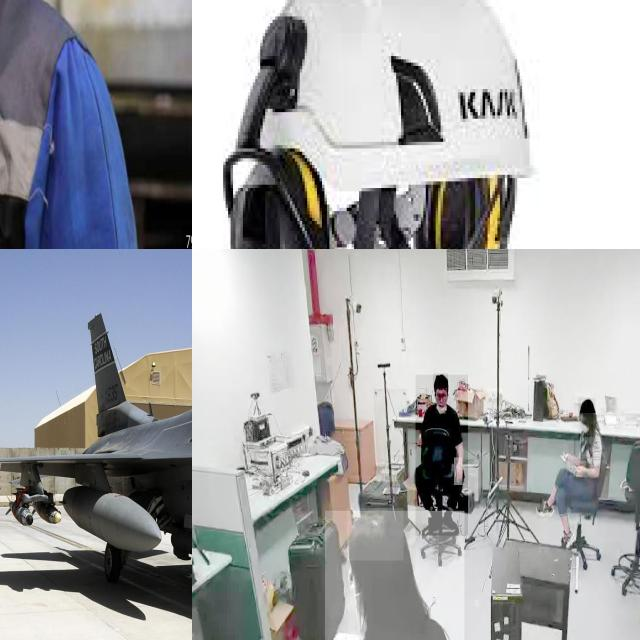Ear-protection: (223, 142, 329, 249), (475, 174, 507, 249)
face_mask: (578, 413, 594, 437)
face_nomask: (434, 389, 448, 407)
hand_noglove: (454, 457, 463, 486), (572, 461, 586, 477), (560, 448, 574, 464)
head_helmet: (248, 0, 537, 194)
head_nohelmet: (347, 508, 404, 562), (578, 398, 596, 414), (433, 373, 449, 389)
person: (0, 0, 134, 248), (325, 510, 465, 640), (542, 399, 606, 552), (416, 374, 468, 536)
shoes: (441, 512, 460, 538), (558, 526, 576, 553), (535, 498, 555, 520)
